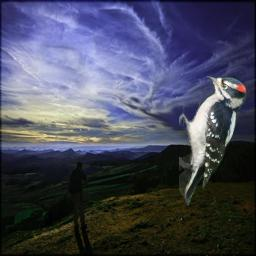Woodpecker: (179, 72, 248, 206)
